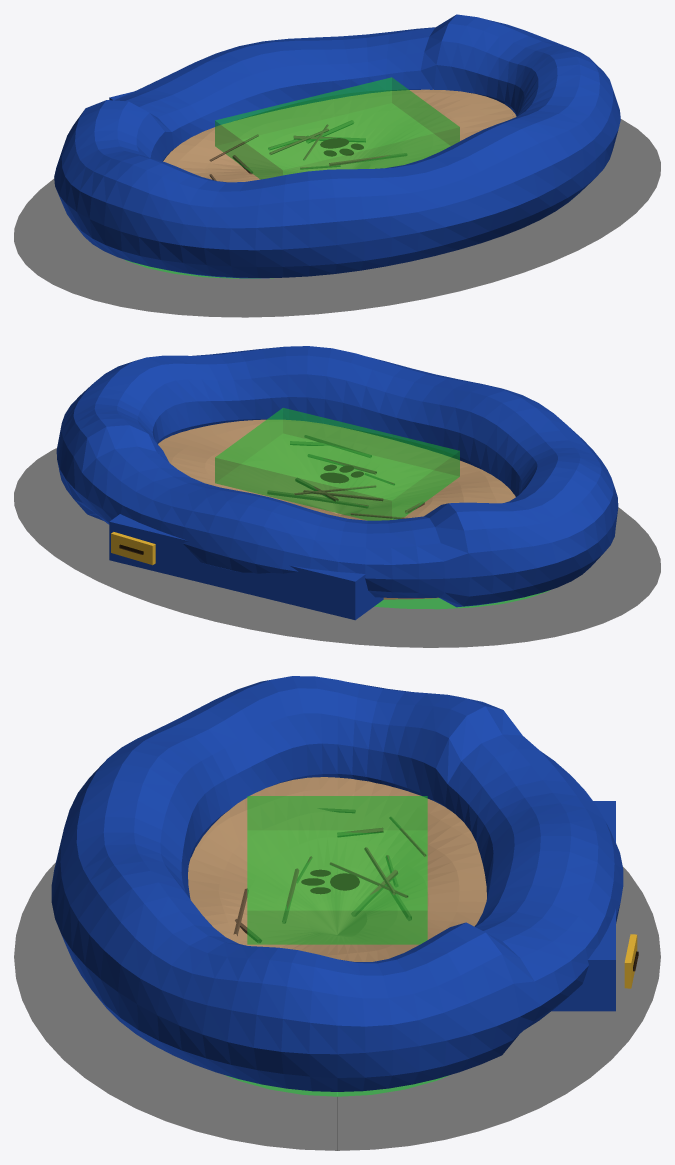
File: cozy_dog_bed.obj
The picture shows the model from 3 angles, top to bottom: view 1: azimuth 30°, elevation 25°; view 2: azimuth 150°, elevation 25°; view 3: azimuth 270°, elevation 25°; orthographic projection. The views are drawn at different scales.
Visible parts, largest first — view 1: Raised_oval_outer_bolster_pillow_rim, Soft_floor_contact_shadow, Depressed_soft_center_cushion, Guide_Rest_Target_Dog_Curl_Up_delete_or_hide; view 2: Raised_oval_outer_bolster_pillow_rim, Soft_floor_contact_shadow, Depressed_soft_center_cushion, Guide_Rest_Target_Dog_Curl_Up_delete_or_hide, Lower_front_entry_lip_soft_pad, Small_fabric_tag_on_front, Guide_Comfort_Scent_Area_delete_or_hide; view 3: Raised_oval_outer_bolster_pillow_rim, Soft_floor_contact_shadow, Depressed_soft_center_cushion, Guide_Rest_Target_Dog_Curl_Up_delete_or_hide, Lower_front_entry_lip_soft_pad, Guide_Comfort_Scent_Area_delete_or_hide.
Boxes of the visible parts, x1,y1,x2,y2 form: Raised_oval_outer_bolster_pillow_rim: [54, 14, 620, 278]; Soft_floor_contact_shadow: [14, 119, 660, 317]; Depressed_soft_center_cushion: [163, 89, 516, 182]; Guide_Rest_Target_Dog_Curl_Up_delete_or_hide: [215, 77, 459, 179]; Raised_oval_outer_bolster_pillow_rim: [56, 346, 618, 607]; Soft_floor_contact_shadow: [14, 448, 660, 647]; Depressed_soft_center_cushion: [158, 419, 515, 599]; Guide_Rest_Target_Dog_Curl_Up_delete_or_hide: [215, 408, 459, 520]; Lower_front_entry_lip_soft_pad: [109, 514, 383, 620]; Small_fabric_tag_on_front: [111, 532, 155, 565]; Guide_Comfort_Scent_Area_delete_or_hide: [374, 590, 549, 609]; Raised_oval_outer_bolster_pillow_rim: [51, 676, 623, 1091]; Soft_floor_contact_shadow: [14, 863, 660, 1150]; Depressed_soft_center_cushion: [188, 777, 486, 961]; Guide_Rest_Target_Dog_Curl_Up_delete_or_hide: [247, 796, 427, 944]; Lower_front_entry_lip_soft_pad: [551, 801, 615, 1011]; Guide_Comfort_Scent_Area_delete_or_hide: [226, 1075, 448, 1096].
Size of what is drawn, in the model's own units: 2.44 by 0.4039 by 1.72.
